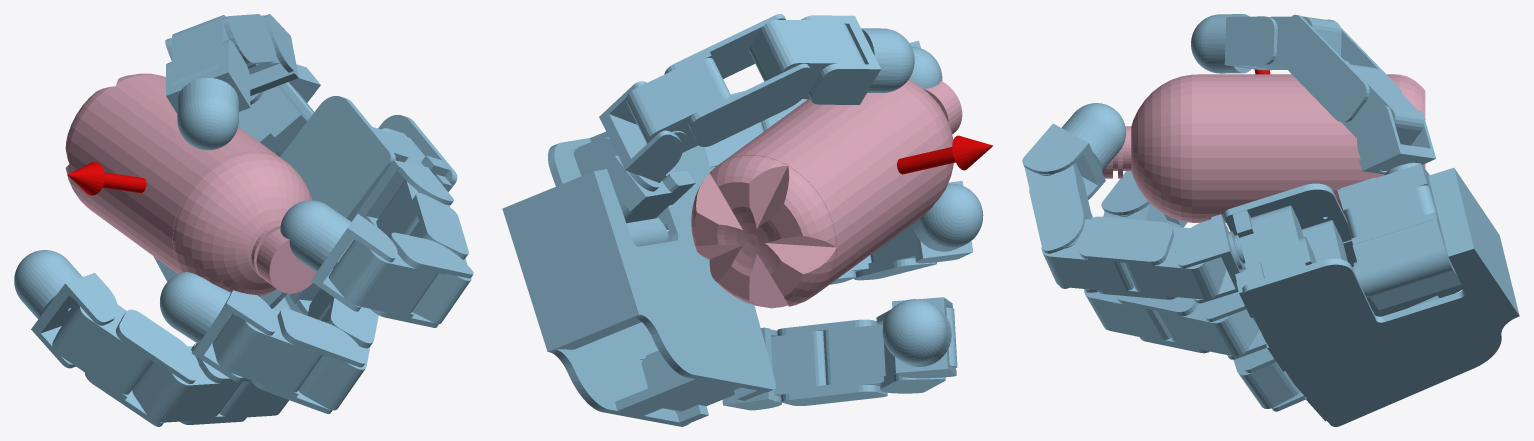
The picture shows the model from 3 angles, left to right: view 1: azimuth 30°, elevation 25°; view 2: azimuth 150°, elevation 25°; view 3: azimuth 270°, elevation 25°; orthographic projection. The views are drawn at different scales.
Visible parts, largest first — view 1: world, water_bottle.stl; view 2: world, water_bottle.stl; view 3: world, water_bottle.stl.
Boxes of the visible parts, x1,y1,x2,y2 form: world: (14,14,473,426); water_bottle.stl: (65,73,316,296); world: (502,14,993,426); water_bottle.stl: (691,79,962,308); world: (1022,14,1519,426); water_bottle.stl: (1102,74,1425,222).
Size of the model in its own units: 0.1736 by 0.1696 by 0.2014.
